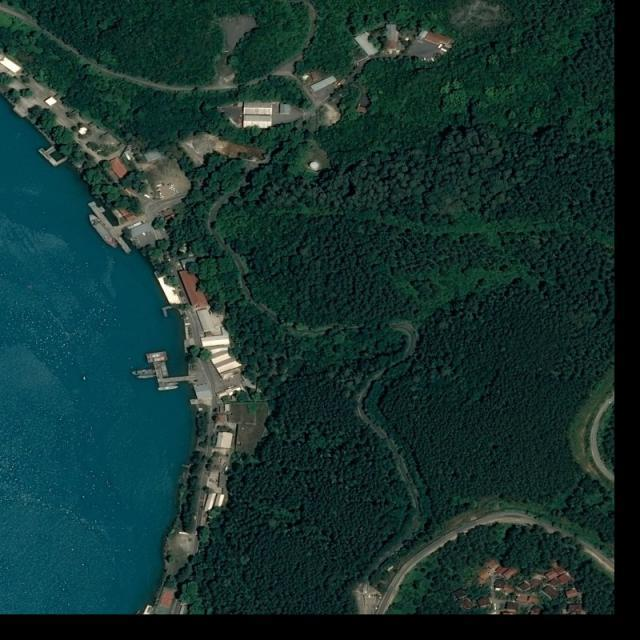ship: (88, 211, 121, 249), (147, 355, 169, 364), (132, 369, 156, 377), (146, 351, 168, 359), (160, 362, 170, 378), (136, 374, 157, 380), (158, 386, 180, 391), (158, 382, 180, 387)
